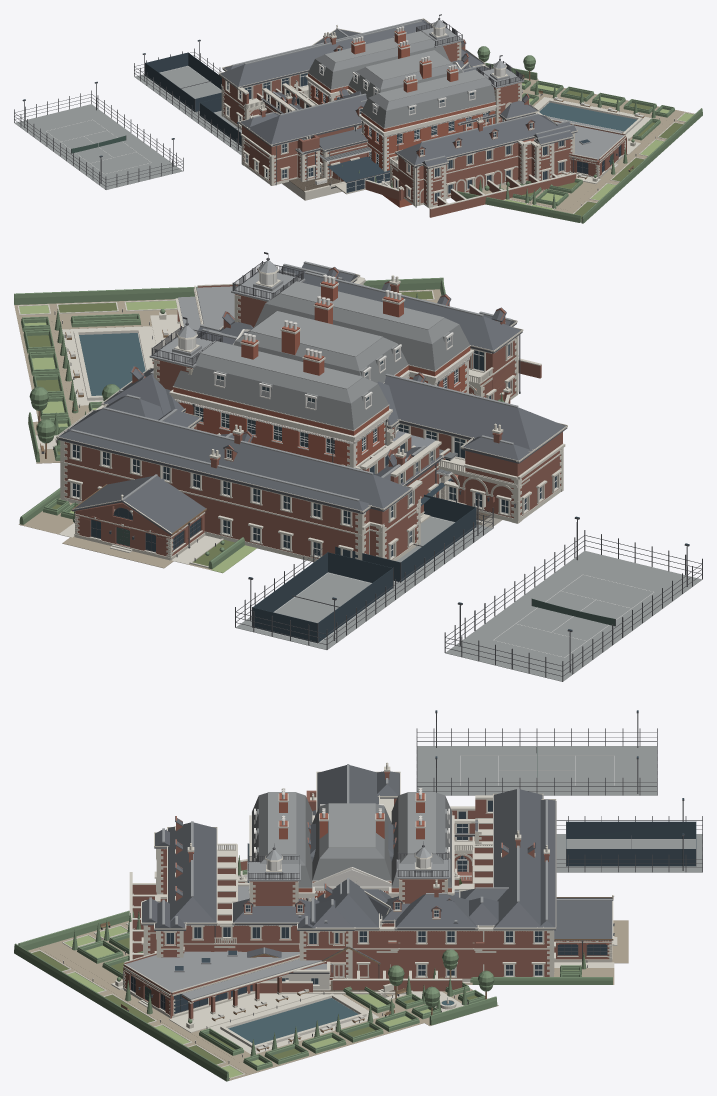
File: assets.glb
3 renders of one model, top to bottom at view 1: azimuth 30°, elevation 25°; view 2: azimuth 150°, elevation 25°; view 3: azimuth 270°, elevation 25°, orthographic. The views are drawn at different scales.
Parts seen in each view (by area): view 1: asset:main-house, asset:north-courtyard, asset:spa-precinct-courts, asset:spa-precinct-garden, asset:south-courtyard.04, asset:spa-precinct-wings, asset:south-courtyard.06, asset:south-courtyard.05, asset:spa-precinct-pool, asset:garden-centre, asset:river-club, asset:south-courtyard.03 (+11 smaller); view 2: asset:main-house, asset:spa-precinct-courts, asset:south-courtyard.04, asset:spa-precinct-garden, asset:south-courtyard.06, asset:spa-precinct-wings, asset:north-courtyard, asset:south-courtyard.05, asset:spa-precinct-pool, asset:south-courtyard.03, asset:south-courtyard.01, smass_c_asset:south-courtyard.15 (+8 smaller); view 3: asset:spa-precinct-garden, asset:north-courtyard, asset:spa-precinct-courts, asset:main-house, asset:spa-precinct-wings, asset:south-courtyard.04, asset:south-courtyard.06, asset:spa-precinct-pool, asset:south-courtyard.05, smass_c_asset:south-courtyard.16, smass_c_asset:south-courtyard.14, csize_s_asset:north-courtyard-small.06 (+8 smaller).
Part boxes in pixels (box(x1,y1,x2,y2)): asset:main-house: box(305, 26, 505, 207); asset:north-courtyard: box(327, 55, 577, 217); asset:spa-precinct-courts: box(14, 39, 241, 189); asset:spa-precinct-garden: box(456, 46, 702, 223); asset:south-courtyard.04: box(219, 19, 489, 154); asset:spa-precinct-wings: box(312, 25, 626, 200); asset:south-courtyard.06: box(222, 36, 353, 182); asset:south-courtyard.05: box(218, 18, 491, 185); asset:spa-precinct-pool: box(534, 97, 651, 140); asset:garden-centre: box(327, 156, 389, 194); asset:river-club: box(282, 138, 371, 200); asset:south-courtyard.03: box(231, 19, 482, 149); asset:main-house: box(169, 274, 474, 467); asset:spa-precinct-courts: box(235, 492, 702, 681); asset:south-courtyard.04: box(56, 332, 567, 513); asset:spa-precinct-garden: box(14, 277, 445, 537); asset:south-courtyard.06: box(64, 426, 562, 559); asset:spa-precinct-wings: box(62, 283, 511, 573); asset:north-courtyard: box(197, 252, 541, 441); asset:south-courtyard.05: box(56, 367, 567, 561); asset:spa-precinct-pool: box(62, 326, 156, 405); asset:south-courtyard.03: box(70, 330, 518, 501); asset:south-courtyard.01: box(73, 424, 556, 556); smass_c_asset:south-courtyard.15: box(101, 359, 444, 520); asset:spa-precinct-garden: box(14, 910, 614, 1081); asset:north-courtyard: box(129, 816, 391, 993); asset:spa-precinct-courts: box(416, 710, 702, 872); asset:main-house: box(238, 788, 472, 901); asset:spa-precinct-wings: box(123, 855, 628, 1021); asset:south-courtyard.04: box(317, 765, 555, 930); asset:south-courtyard.06: box(306, 771, 549, 978); asset:spa-precinct-pool: box(207, 993, 378, 1053); asset:south-courtyard.05: box(310, 762, 556, 979); smass_c_asset:south-courtyard.16: box(396, 810, 475, 978); smass_c_asset:south-courtyard.14: box(394, 820, 477, 930); csize_s_asset:north-courtyard-small.06: box(325, 879, 482, 991).
Bounding box in the file's own units: 122 × 22.5 × 106.
